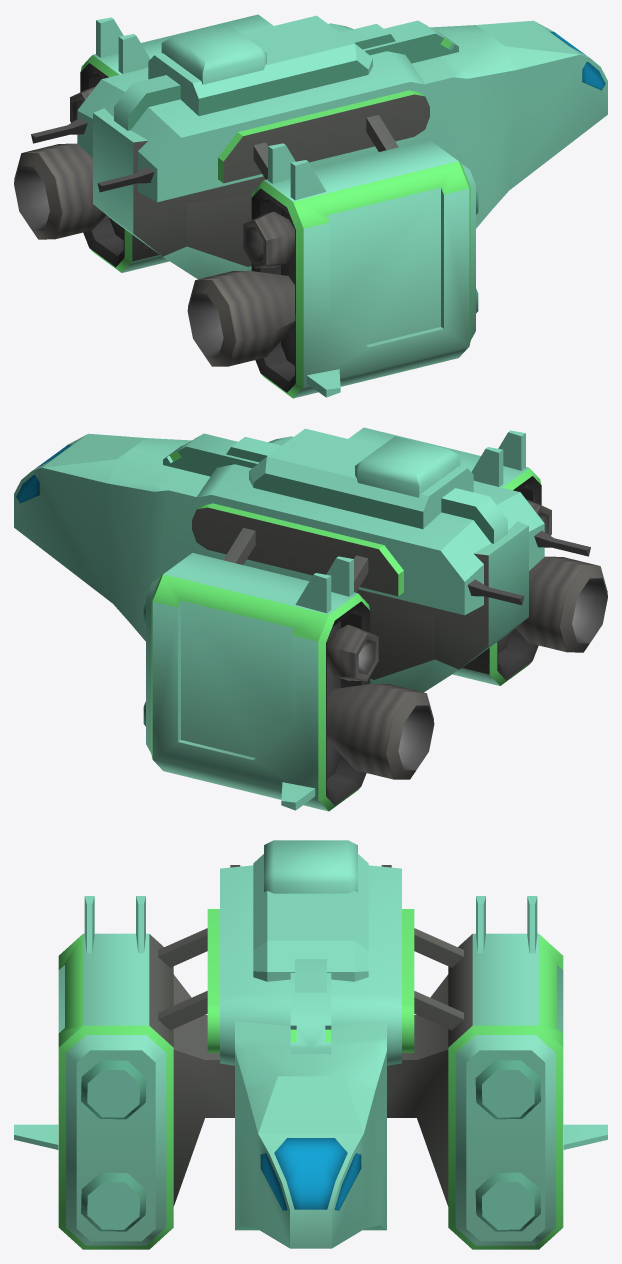
Rendered from EnemyShip2.fbx.
3 renders of one model, top to bottom at view 1: azimuth 30°, elevation 25°; view 2: azimuth 150°, elevation 25°; view 3: azimuth 270°, elevation 25°, orthographic. The views are drawn at different scales.
Visible parts, largest first — view 1: Enemy2Parts.001, Enemy2Parts.002, Enemy2Parts.003, Enemy2Parts.005; view 2: Enemy2Parts.001, Enemy2Parts.003, Enemy2Parts.002, Enemy2Parts.004; view 3: Enemy2Parts.001.
Part boxes in pixels (<box>): Enemy2Parts.001: <box>31,14,607,398</box>; Enemy2Parts.002: <box>187,270,295,366</box>; Enemy2Parts.003: <box>14,143,106,239</box>; Enemy2Parts.005: <box>243,211,294,268</box>; Enemy2Parts.001: <box>14,427,590,811</box>; Enemy2Parts.003: <box>326,683,434,779</box>; Enemy2Parts.002: <box>515,556,607,652</box>; Enemy2Parts.004: <box>327,624,378,681</box>; Enemy2Parts.001: <box>14,840,607,1249</box>.
Bounding box in the file's own units: 4.6 × 3.91 × 2.29.
